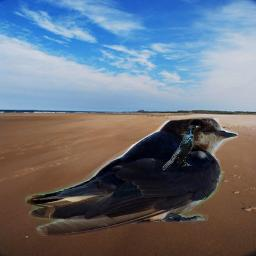Crow: (162, 125, 201, 171)
Swallow: (25, 117, 238, 236)
